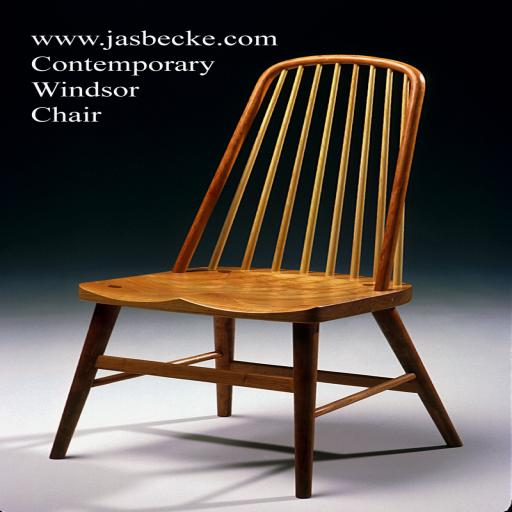chair: (50, 54, 464, 499)
